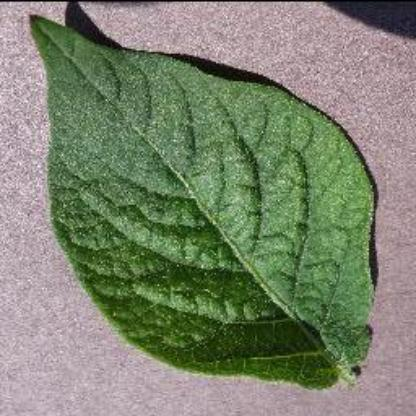Healthy-plant: (18, 9, 392, 393)
